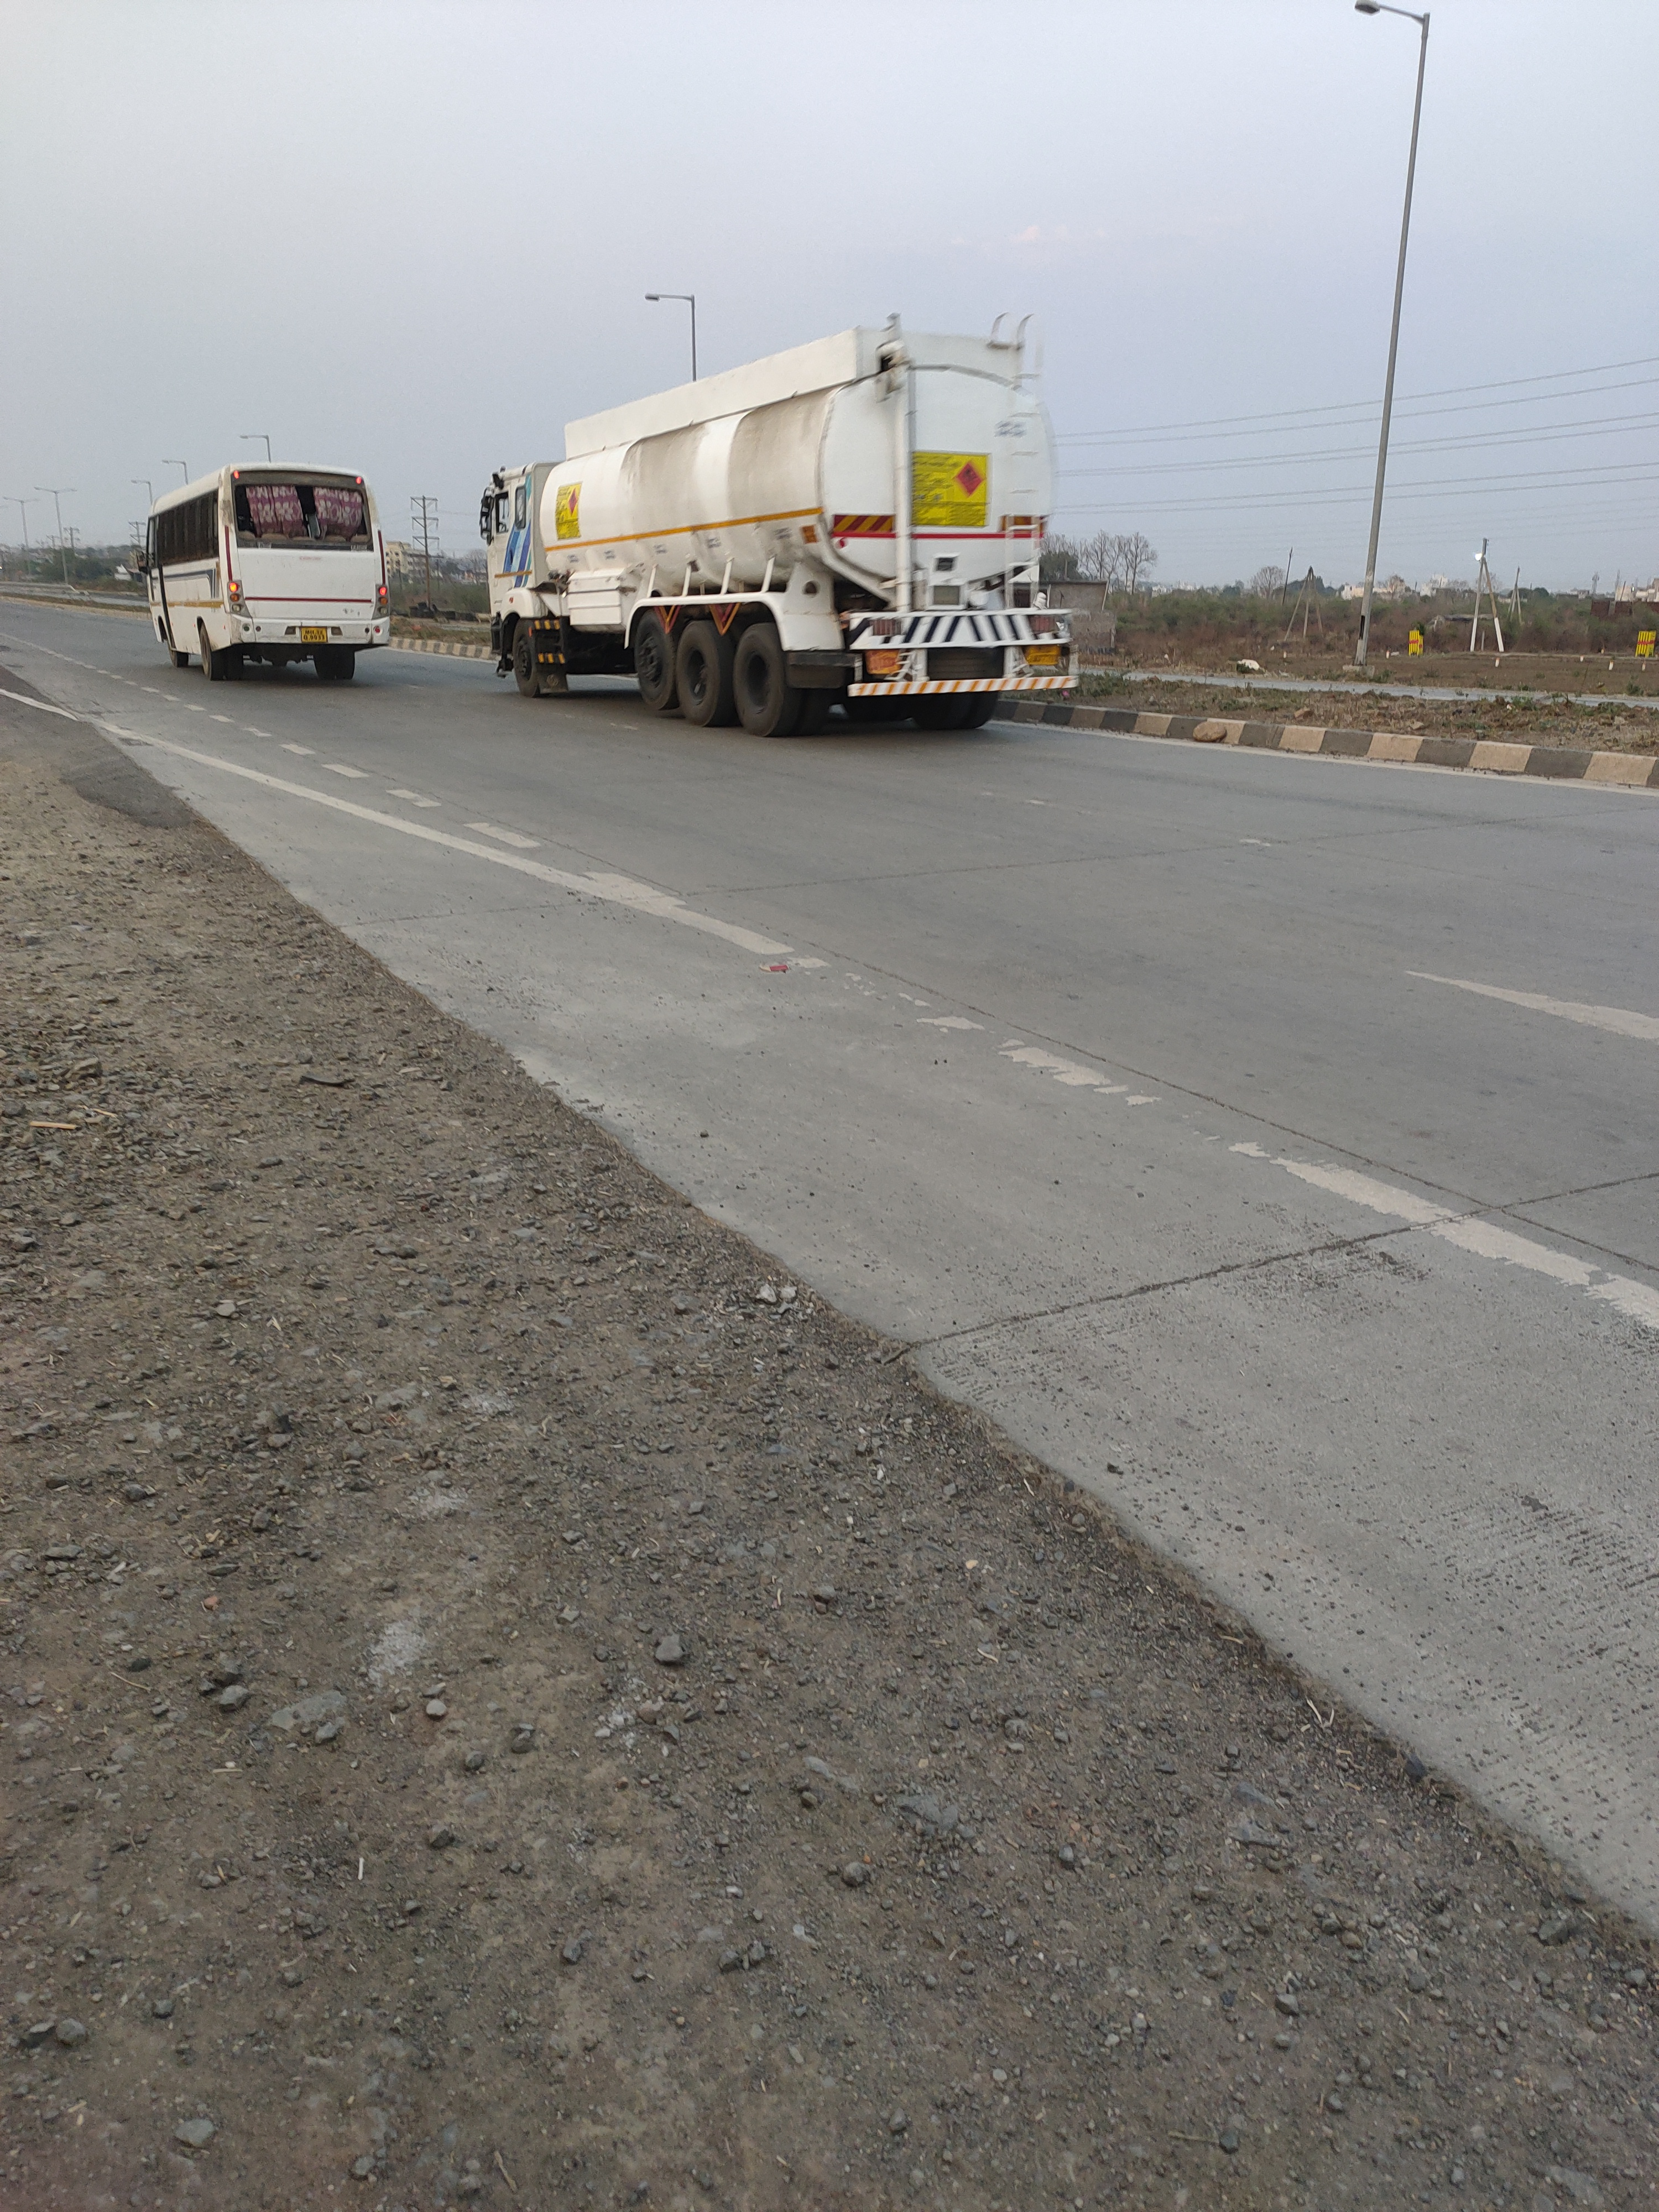truck: (477, 308, 1084, 738)
